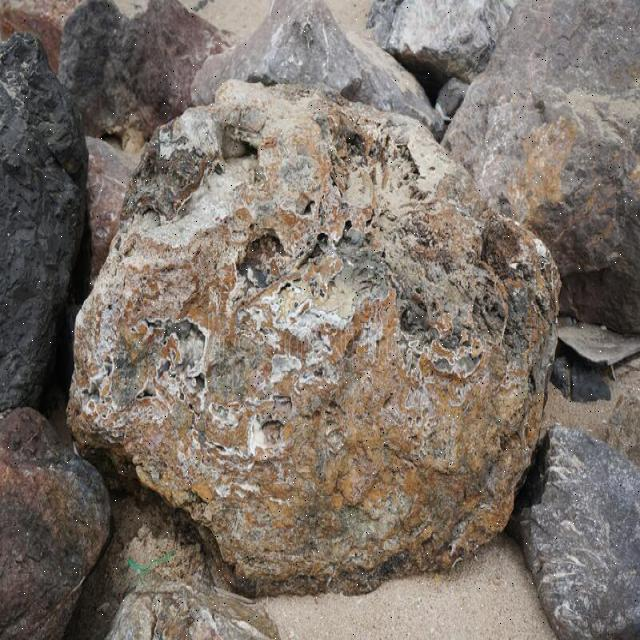Sedimentary: (69, 83, 580, 587), (454, 5, 640, 323), (1, 26, 88, 404), (1, 413, 106, 633)
